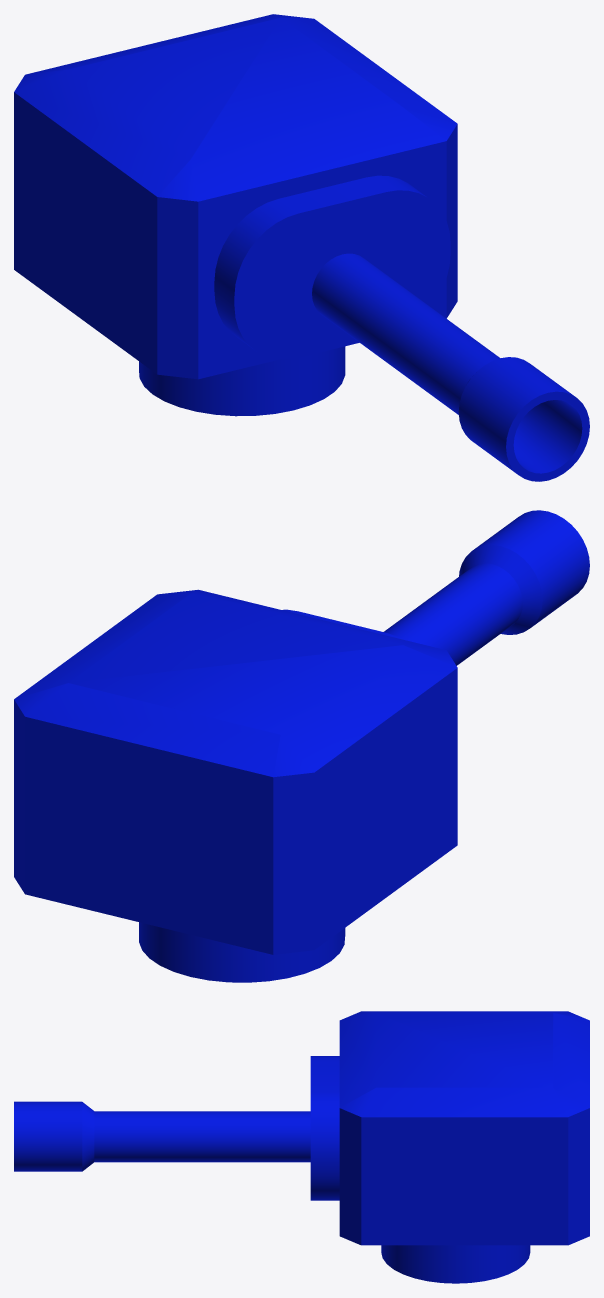
Rendered from TankHead.fbx.
3 views of the same model, one above another, from view 1: azimuth 30°, elevation 25°; view 2: azimuth 150°, elevation 25°; view 3: azimuth 270°, elevation 25° (orthographic). The views are drawn at different scales.
Parts seen in each view (by area): view 1: TankTop(Enemy); view 2: TankTop(Enemy); view 3: TankTop(Enemy).
Part boxes in pixels (bbox=[...]): TankTop(Enemy): bbox=[14, 14, 589, 481]; TankTop(Enemy): bbox=[14, 510, 589, 982]; TankTop(Enemy): bbox=[14, 1011, 589, 1283].
Bounding box in the file's own units: 438 × 390 × 1008.
